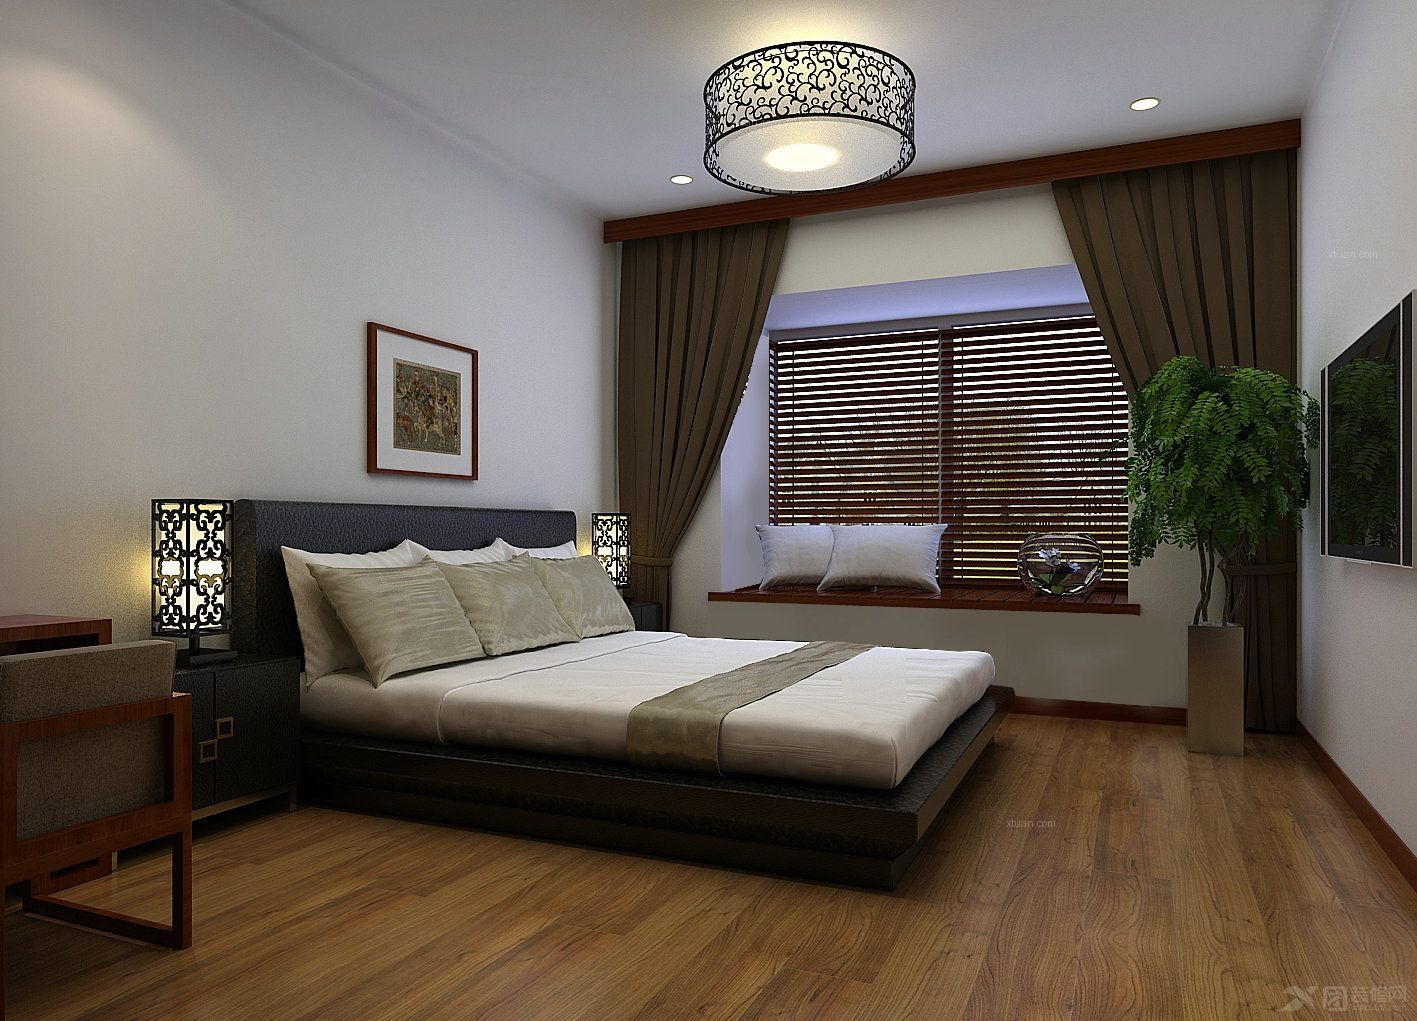床: (292, 622, 993, 877)
枕头: (297, 544, 624, 683), (744, 514, 956, 604)
灯: (684, 32, 915, 198), (135, 494, 242, 660), (587, 501, 639, 593), (1114, 92, 1154, 119), (661, 171, 688, 191)
